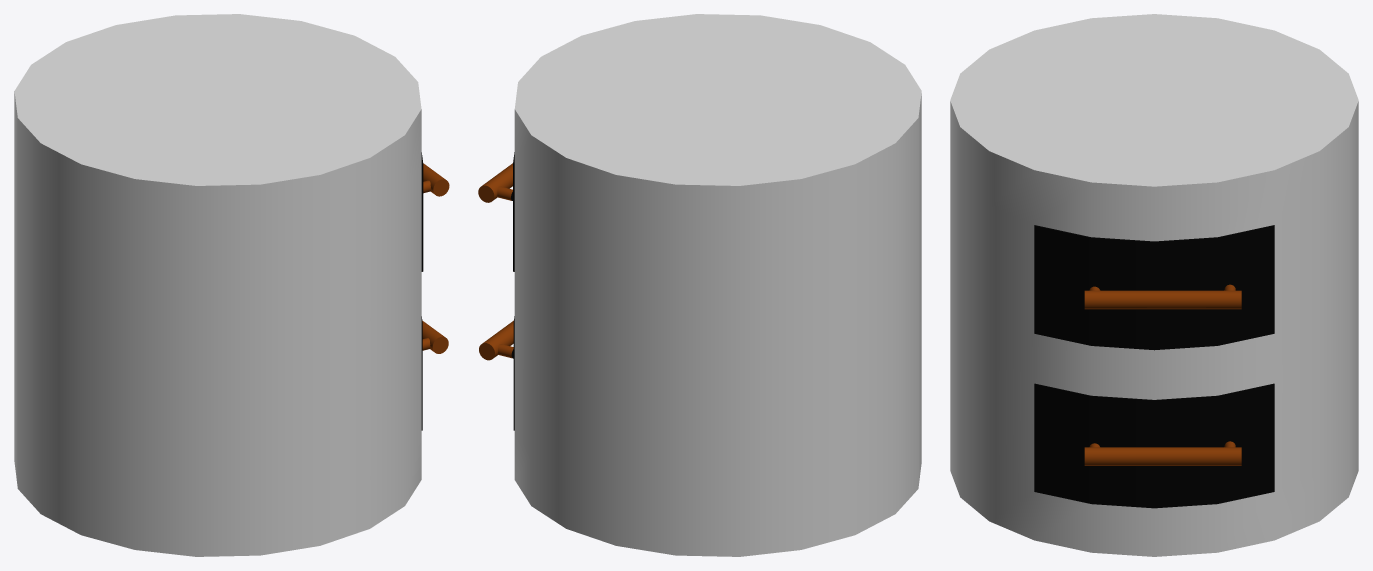
File: Drawer_small_FBX.fbx
3 views of the same model, side by side, from view 1: azimuth 30°, elevation 25°; view 2: azimuth 150°, elevation 25°; view 3: azimuth 270°, elevation 25° (orthographic).
Visible parts, largest first — view 1: drawer_4_states_1_:pCylinder15, drawer_4_states_1_:polySurface18, drawer_4_states_1_:polySurface24; view 2: drawer_4_states_1_:pCylinder15, drawer_4_states_1_:polySurface18, drawer_4_states_1_:polySurface24; view 3: drawer_4_states_1_:pCylinder15, drawer_4_states_1_:polySurface18, drawer_4_states_1_:polySurface24.
Part boxes in pixels (x1,y1,x2,y2): drawer_4_states_1_:pCylinder15: [14, 14, 421, 556]; drawer_4_states_1_:polySurface18: [421, 152, 449, 271]; drawer_4_states_1_:polySurface24: [421, 316, 448, 430]; drawer_4_states_1_:pCylinder15: [514, 14, 921, 556]; drawer_4_states_1_:polySurface18: [478, 152, 514, 271]; drawer_4_states_1_:polySurface24: [479, 316, 514, 430]; drawer_4_states_1_:pCylinder15: [950, 14, 1358, 556]; drawer_4_states_1_:polySurface18: [1034, 225, 1274, 350]; drawer_4_states_1_:polySurface24: [1034, 383, 1274, 508].
Bounding box in the file's own units: 3.73 × 3.53 × 3.53.
